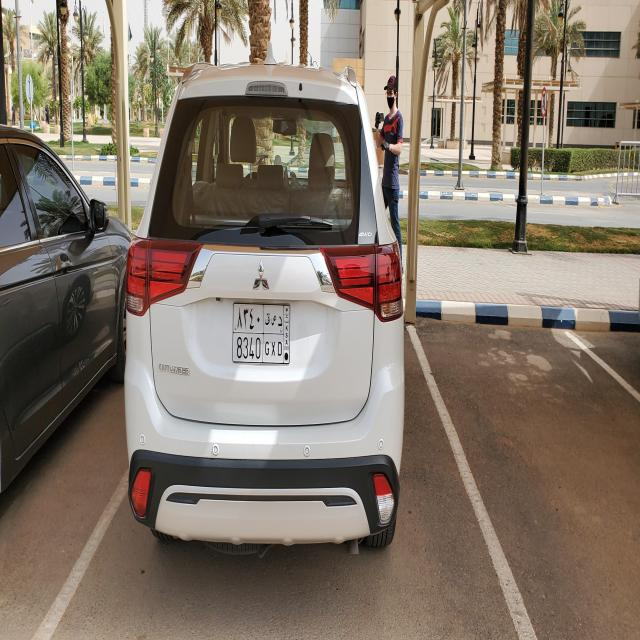license_plate: (232, 302, 290, 366)
